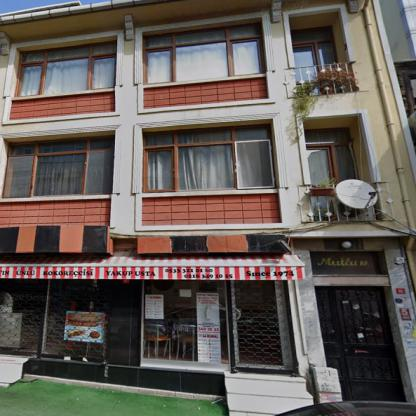door: (315, 286, 403, 399), (228, 280, 296, 372)
window: (142, 17, 265, 84), (142, 128, 270, 190), (6, 136, 112, 194), (15, 40, 115, 97), (293, 28, 340, 81), (304, 137, 355, 185)
